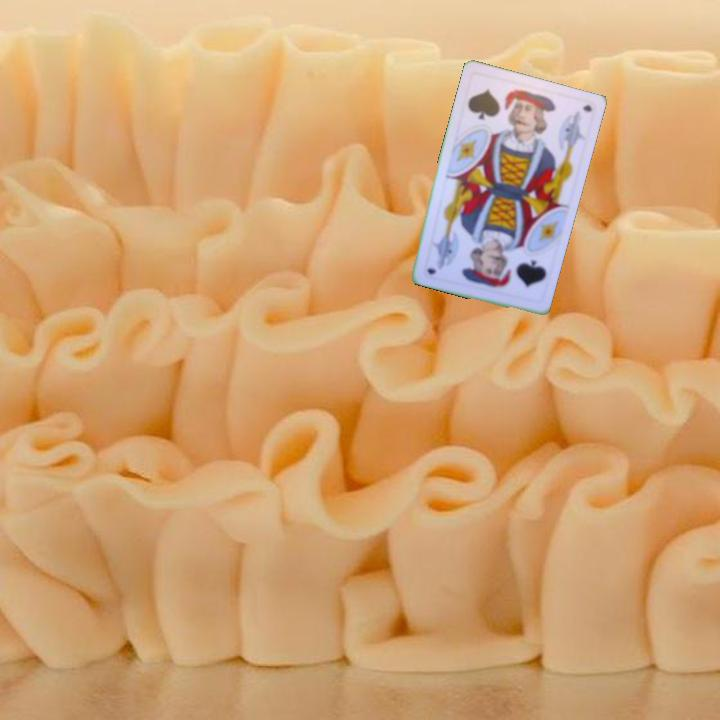s_j.png: (476, 234, 555, 307), (458, 70, 536, 143)
